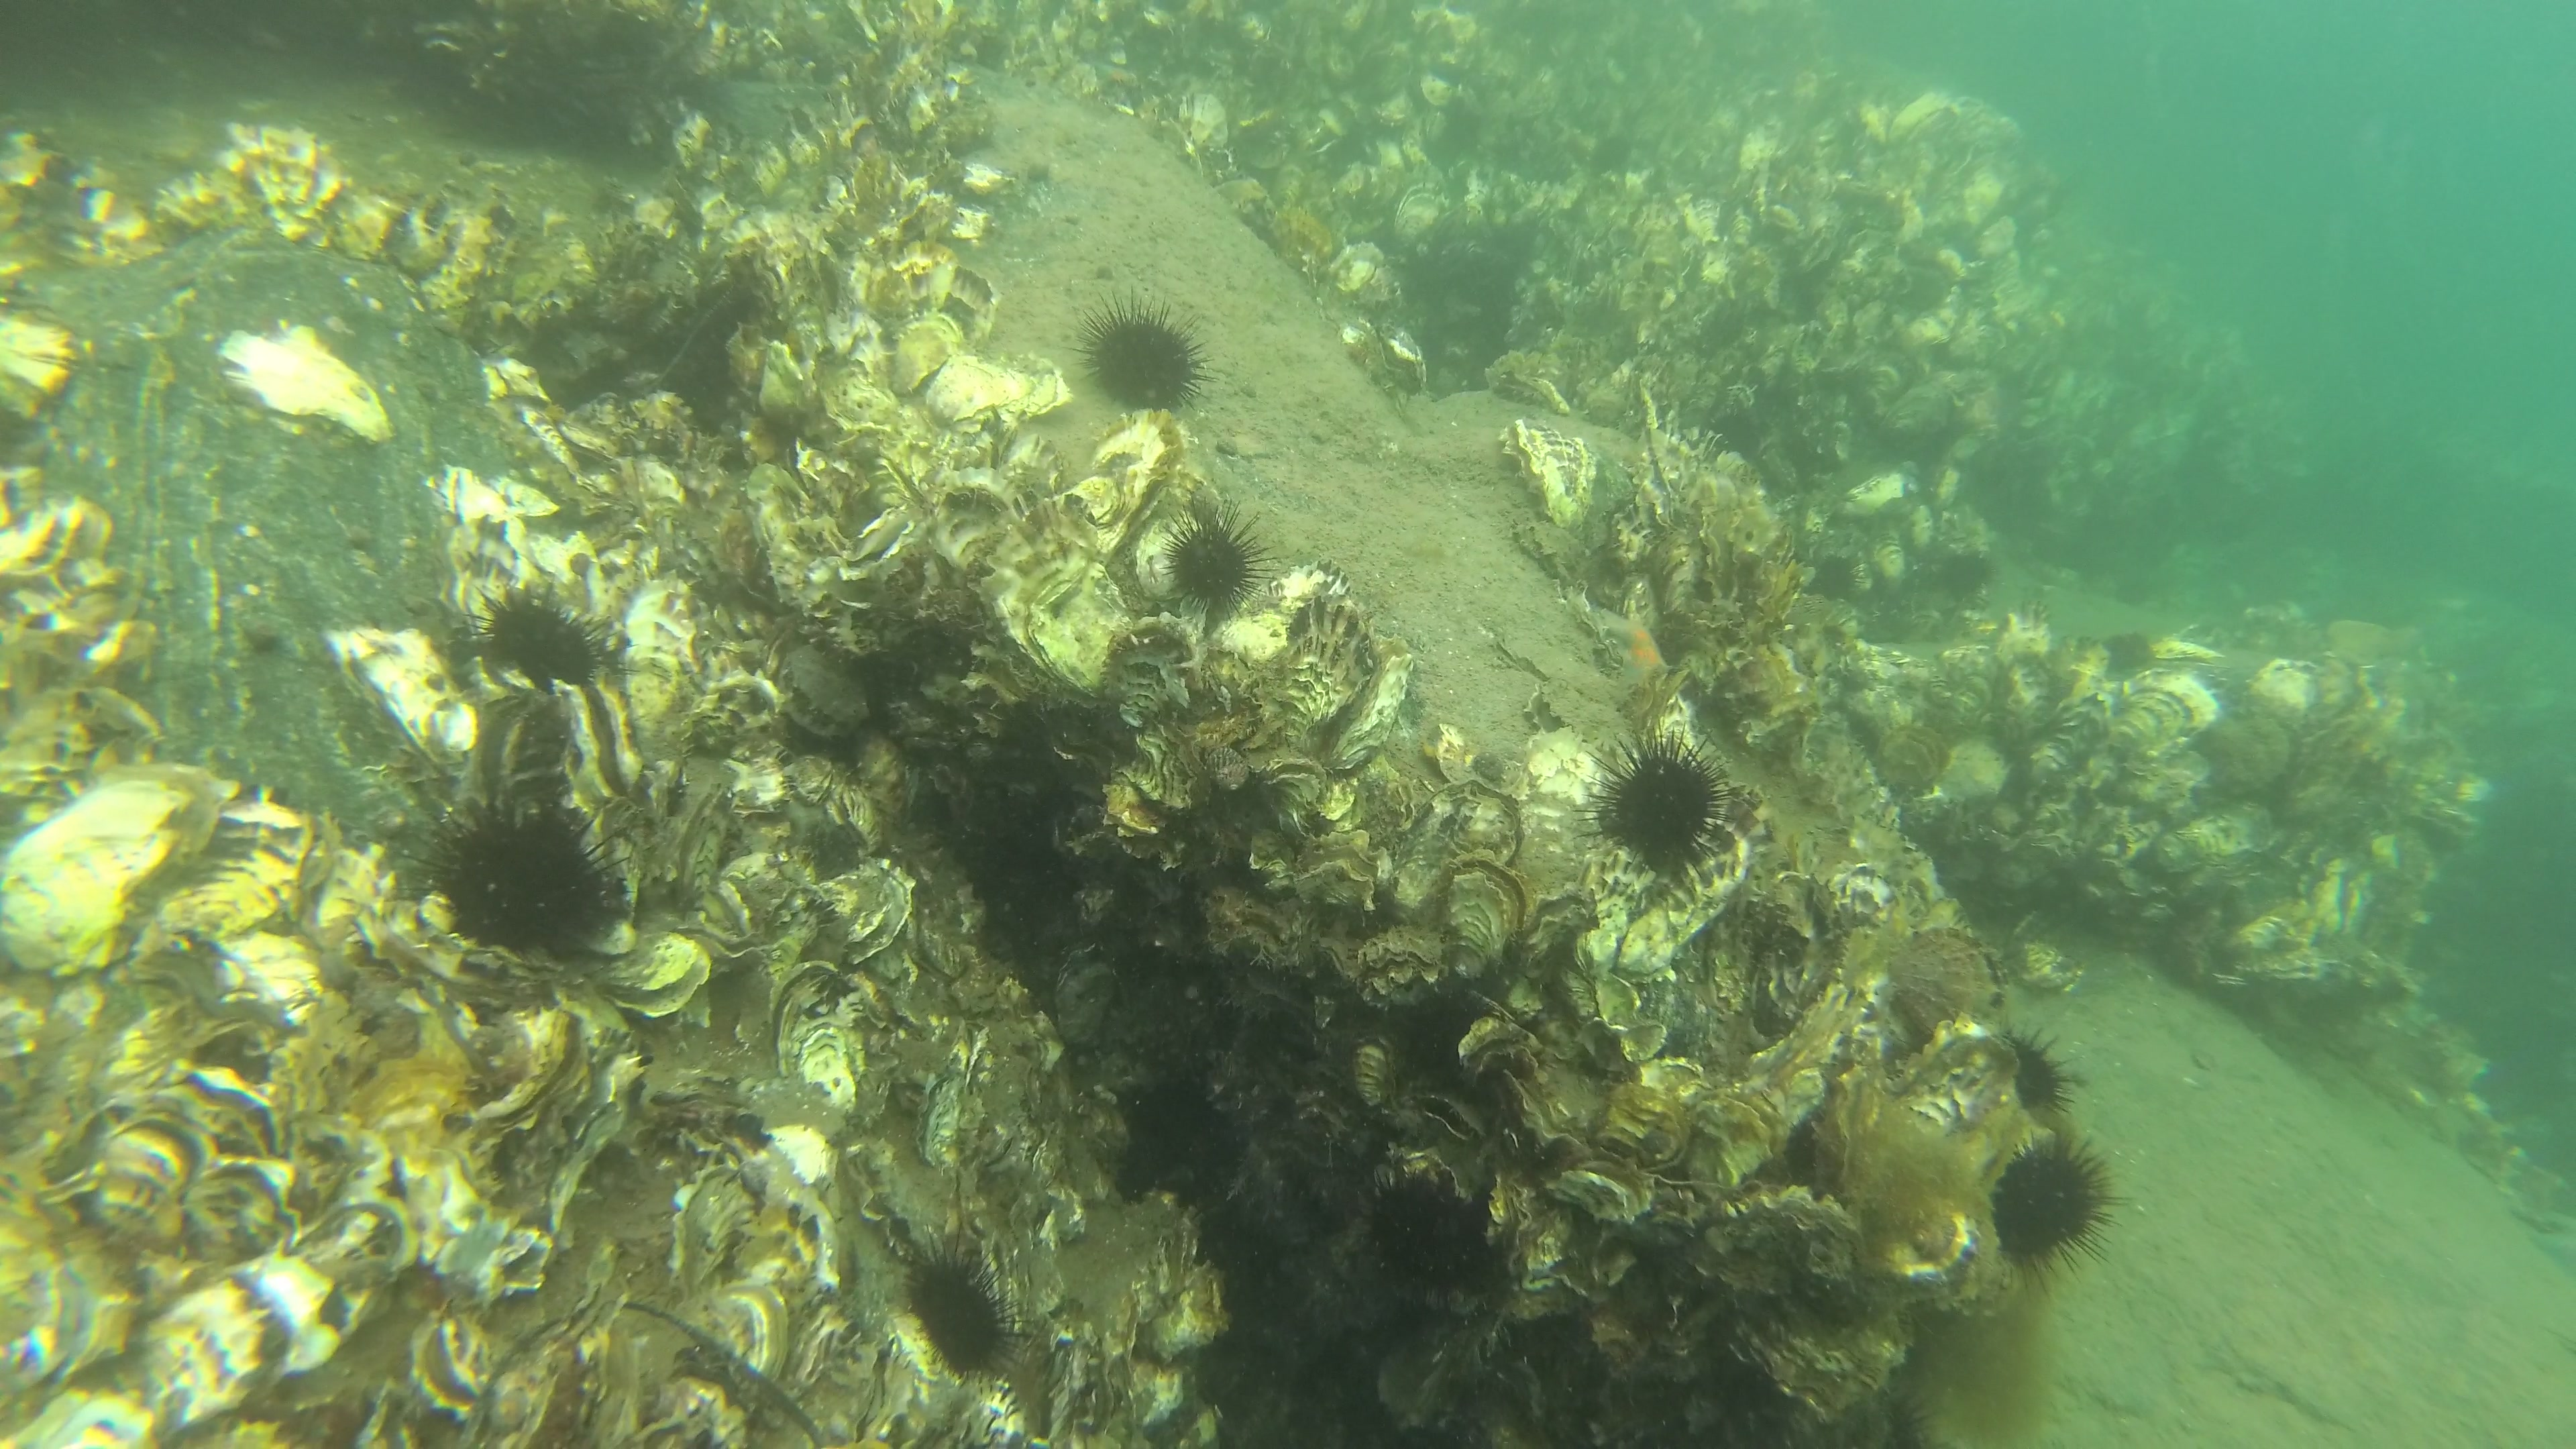echinus: (396, 791, 639, 977), (1976, 1127, 2118, 1283), (1578, 731, 1730, 874), (892, 1237, 1031, 1384), (462, 580, 619, 706), (1065, 292, 1215, 416), (1361, 1162, 1486, 1299), (1159, 494, 1277, 623), (1966, 1021, 2084, 1122), (1808, 548, 1870, 614), (2107, 626, 2158, 681), (1943, 550, 1996, 602)
starfish: (1594, 603, 1672, 697)
